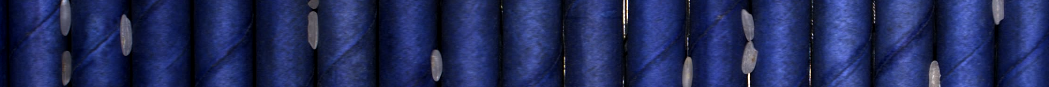broken_grain: (988, 1, 1007, 31), (925, 56, 943, 87)
complete_grain: (741, 39, 762, 80), (116, 12, 134, 58), (737, 6, 758, 42), (427, 39, 443, 84), (304, 9, 320, 53), (56, 48, 74, 87), (57, 2, 75, 37), (680, 52, 696, 87)
